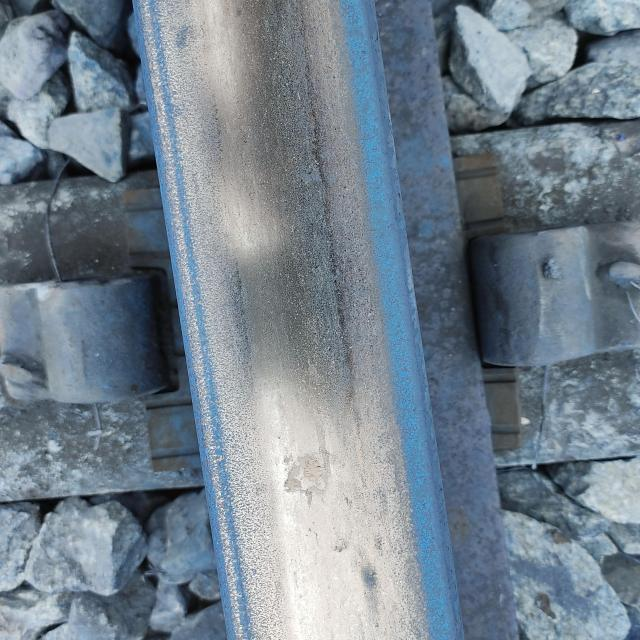Missing Fastener: (3, 258, 180, 439), (465, 199, 639, 380)
